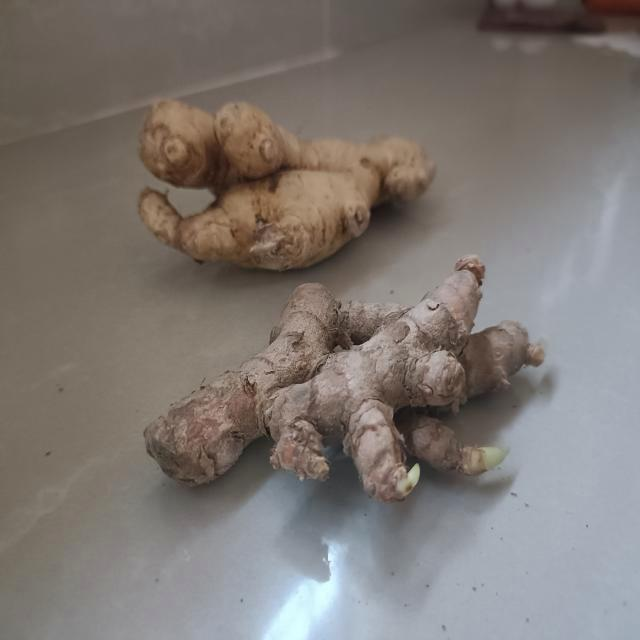ginger: (132, 252, 550, 508), (129, 87, 442, 277)
